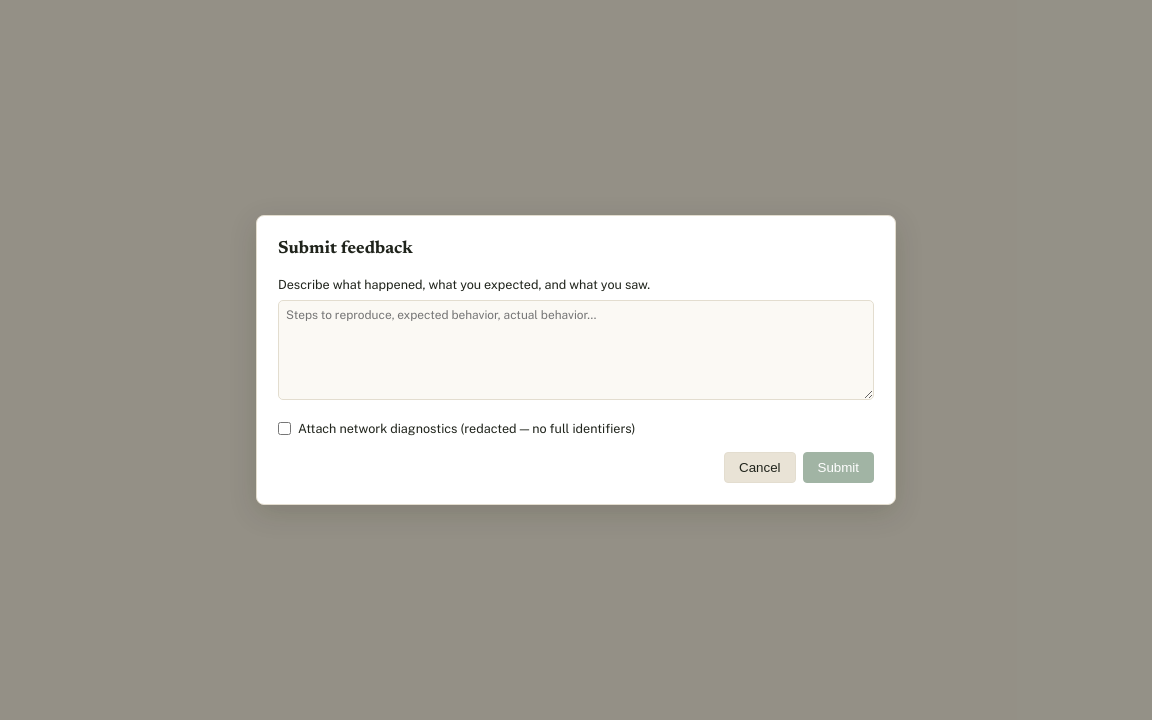
it: FeedbackModal › toggle OFF hides preview
Step 1. Click the checkbox with test id "feedback-attach-toggle" → [284, 429], box [278,422,291,435]
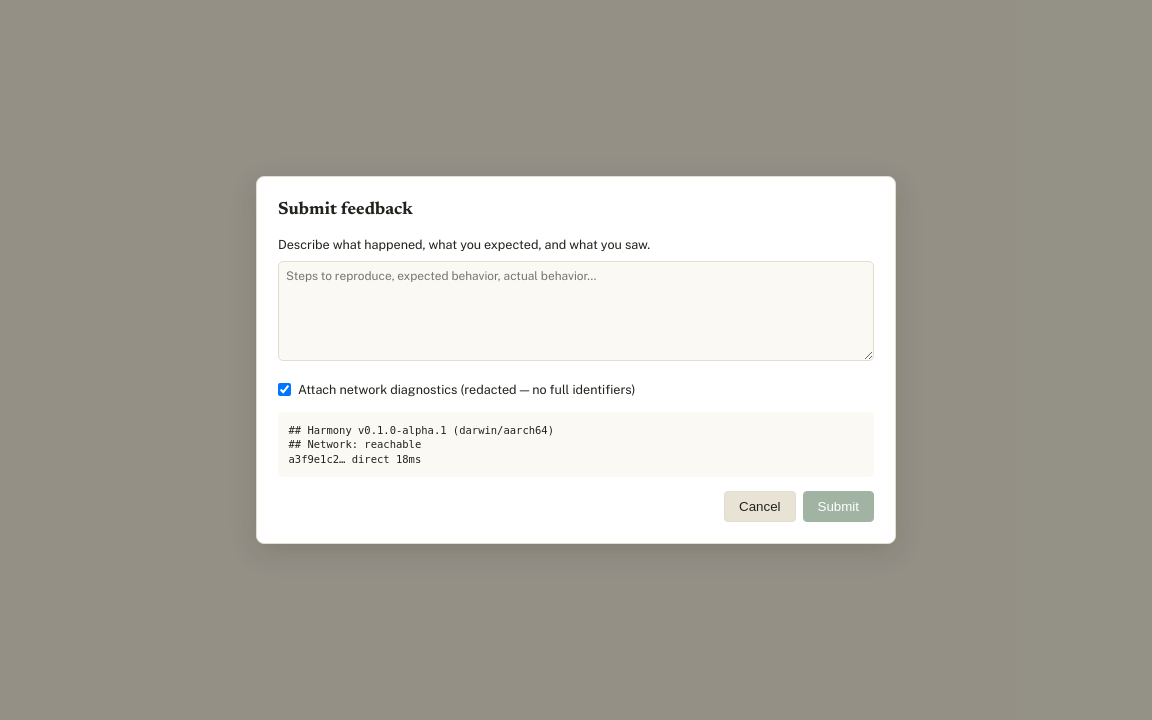
Expected: the text with test id "feedback-diagnostics-preview" is shown, [278,412,874,477]
Step 2. Click the checkbox with test id "feedback-attach-toggle" → [284, 389], box [278,383,291,396]
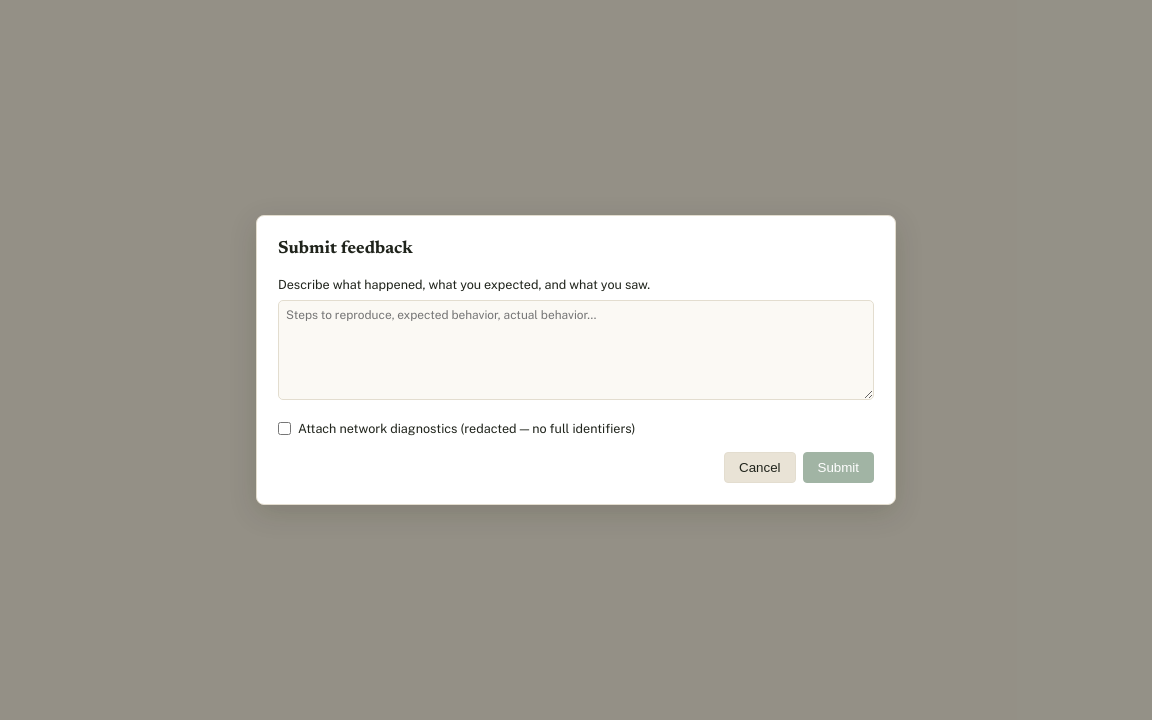
Expected: the text with test id "feedback-diagnostics-preview" is gone
